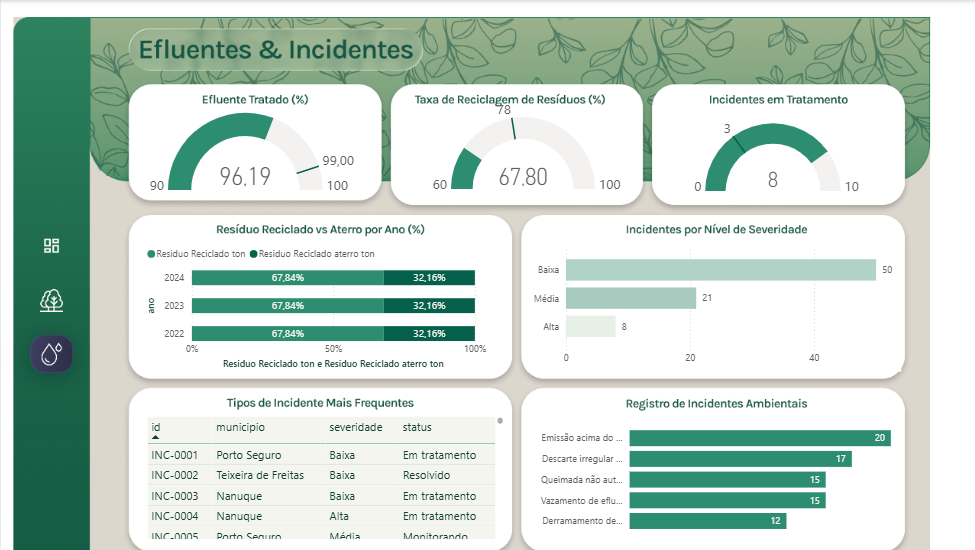

This screenshot's page, from the dashboard's own definition file:
{"tool":"powerbi","page":{"name":"Efluentes e Incidentes","canvas":[1280,720],"ordinal":2},"visuals":[{"type":"gauge","fields":{"Y":["Medidas DAX.Incidentes Alta Severidade"],"MaxValue":["Medidas DAX.max incidentes"],"MinValue":["Medidas DAX.min incidentes"],"TargetValue":["Metas.Meta Incidentes Num"]},"box":[852.5,141.2,326.2,118.8],"z":0},{"type":"hundredPercentStackedBarChart","fields":{"Y":["Medidas DAX.Residuo Reciclado ton","Medidas DAX.Residuo Reciclado aterro ton"],"Category":["efluentes_residuos.ano"]},"box":[185.6,312.2,454.4,175.6],"z":1000},{"type":"clusteredBarChart","fields":{"Category":["incidentes.severidade"],"Y":["Medidas DAX.Total Incidentes"]},"box":[688.3,311.7,490,175],"z":2000},{"type":"tableEx","fields":{"Values":["incidentes.id","DimMunicipios.municipio","incidentes.severidade","incidentes.status"]},"box":[185.6,540,476.7,170],"z":3000},{"type":"clusteredBarChart","fields":{"Category":["incidentes.tipo"],"Y":["Medidas DAX.Total Incidentes"]},"box":[689.5,539.5,480.3,169.7],"z":4000},{"type":"gauge","fields":{"Y":["Medidas DAX.Media Efluente Tratado %"],"TargetValue":["Metas.Meta Efluente Num"],"MinValue":["Medidas DAX.Min Efluente"],"MaxValue":["Medidas DAX.Max Efluente"]},"box":[185,141.2,287.5,118.8],"z":5000},{"type":"gauge","fields":{"Y":["Medidas DAX.media reciclagem"],"MaxValue":["Medidas DAX.max reciclagem"],"MinValue":["Medidas DAX.Min Reciclagem"],"TargetValue":["Metas.Meta reciclagem 2024"]},"box":[555,113.8,266.2,146.2],"z":6000}]}

Visuals, with their boxes on the page's 1280x720 design canvas (x1, y1, x2, y2). These are canvas units, not pixel positions in the 975x550 screenshot, which may show the page scaled, cropped or inside an application window:
gauge - Medidas DAX.Incidentes Alta Severidade x Medidas DAX.max incidentes: box=[852, 141, 1179, 260]
hundredPercentStackedBarChart - Medidas DAX.Residuo Reciclado ton x Medidas DAX.Residuo Reciclado aterro ton: box=[186, 312, 640, 488]
clusteredBarChart - incidentes.severidade x Medidas DAX.Total Incidentes: box=[688, 312, 1178, 487]
tableEx - incidentes.id x DimMunicipios.municipio: box=[186, 540, 662, 710]
clusteredBarChart - incidentes.tipo x Medidas DAX.Total Incidentes: box=[690, 540, 1170, 709]
gauge - Medidas DAX.Media Efluente Tratado % x Metas.Meta Efluente Num: box=[185, 141, 472, 260]
gauge - Medidas DAX.media reciclagem x Medidas DAX.max reciclagem: box=[555, 114, 821, 260]
